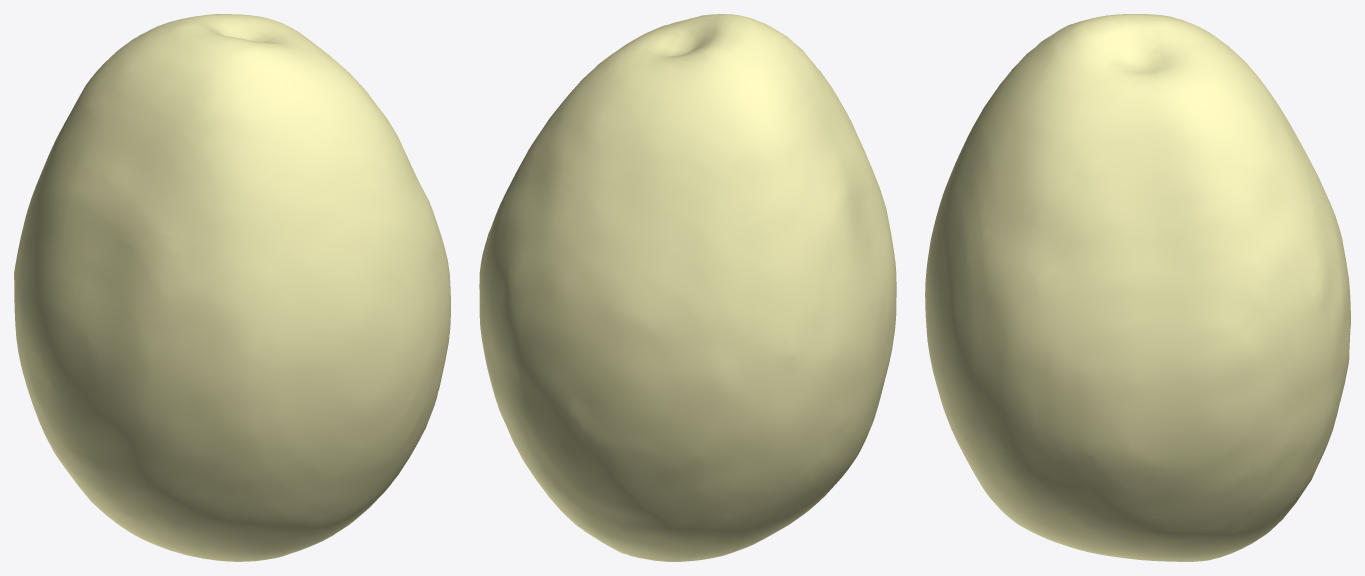
File: avacado_texture.glb
The picture shows the model from 3 angles, left to right: view 1: azimuth 30°, elevation 25°; view 2: azimuth 150°, elevation 25°; view 3: azimuth 270°, elevation 25°; orthographic projection. The views are drawn at different scales.
Parts seen in each view (by area): view 1: Avocado_Skin; view 2: Avocado_Skin; view 3: Avocado_Skin.
Boxes of the visible parts, x1=… form: Avocado_Skin: x1=14, y1=14, x2=450, y2=561; Avocado_Skin: x1=479, y1=14, x2=896, y2=561; Avocado_Skin: x1=925, y1=14, x2=1350, y2=561.
Bounding box in the file's own units: 0.6682 × 0.9146 × 0.6829.
